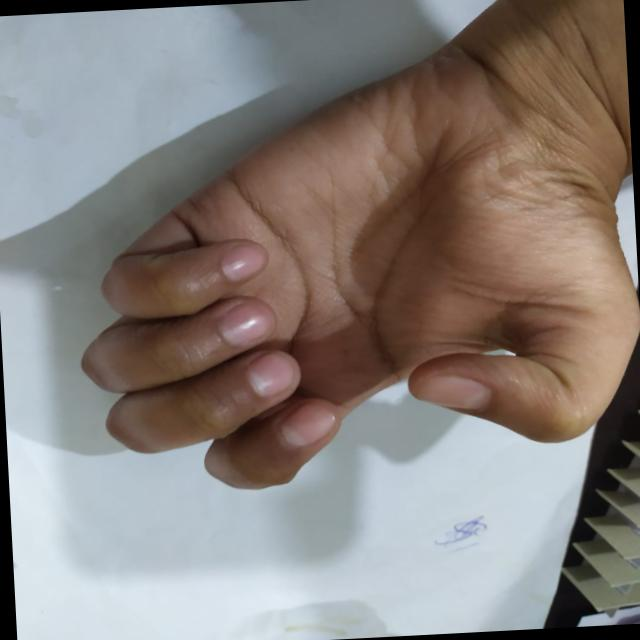Nail: (220, 300, 275, 346), (247, 351, 298, 397), (280, 403, 334, 445), (420, 375, 485, 408), (221, 241, 265, 282)
